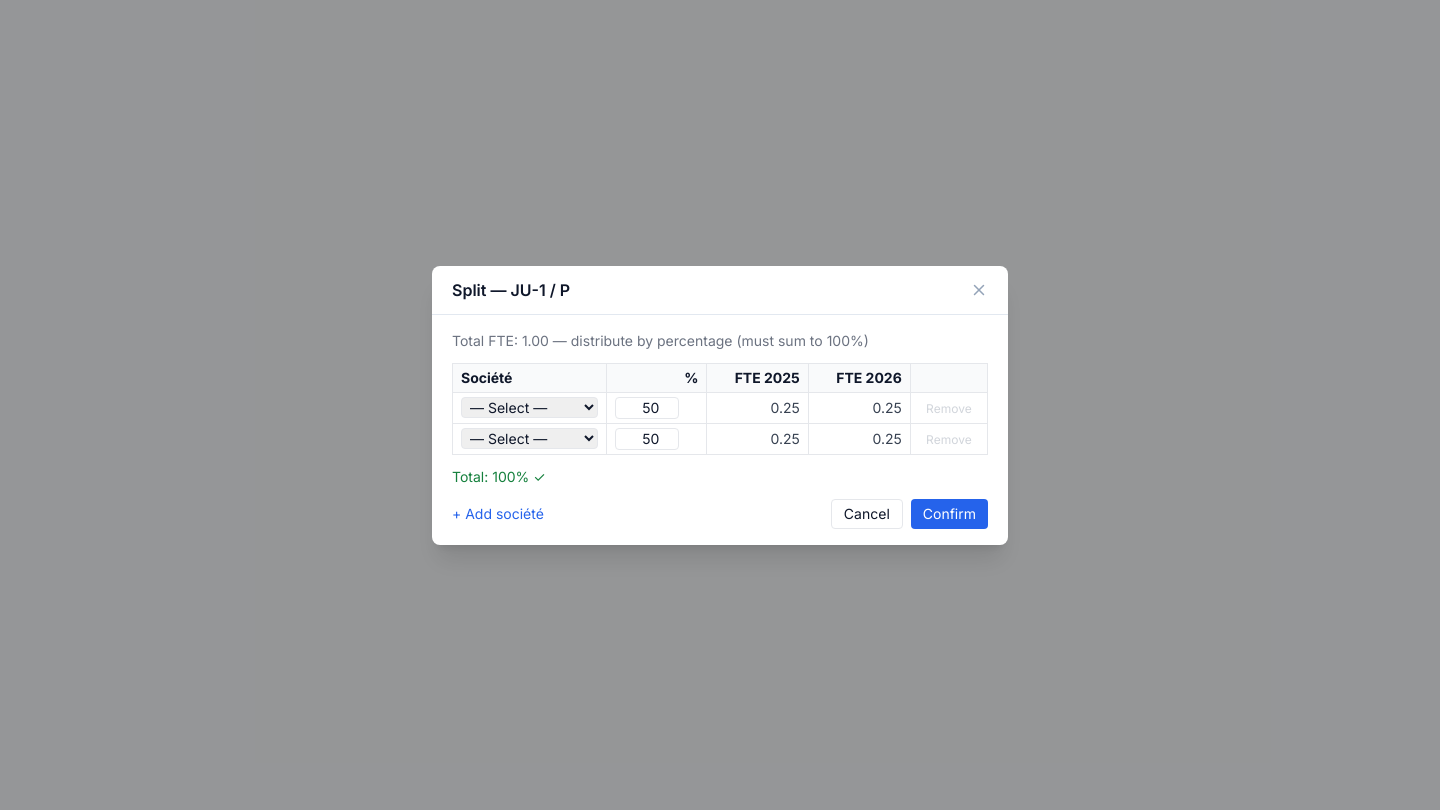
SplitModal — remove slot › shows a disabled Remove per slot at the 2-slot minimum, enabled once a 3rd is added (ALLOC-BR-22)
Expected: the number of buttons named "remove société" is 2, [926,400,972,416]; [926,432,972,448]
Expected: the button with aria-label "remove société" is disabled, [926,400,972,416]
Add a third slot → all three Remove buttons become enabled.
Click the button "+ Add société". click: (498, 514)
box: [452,504,544,524]
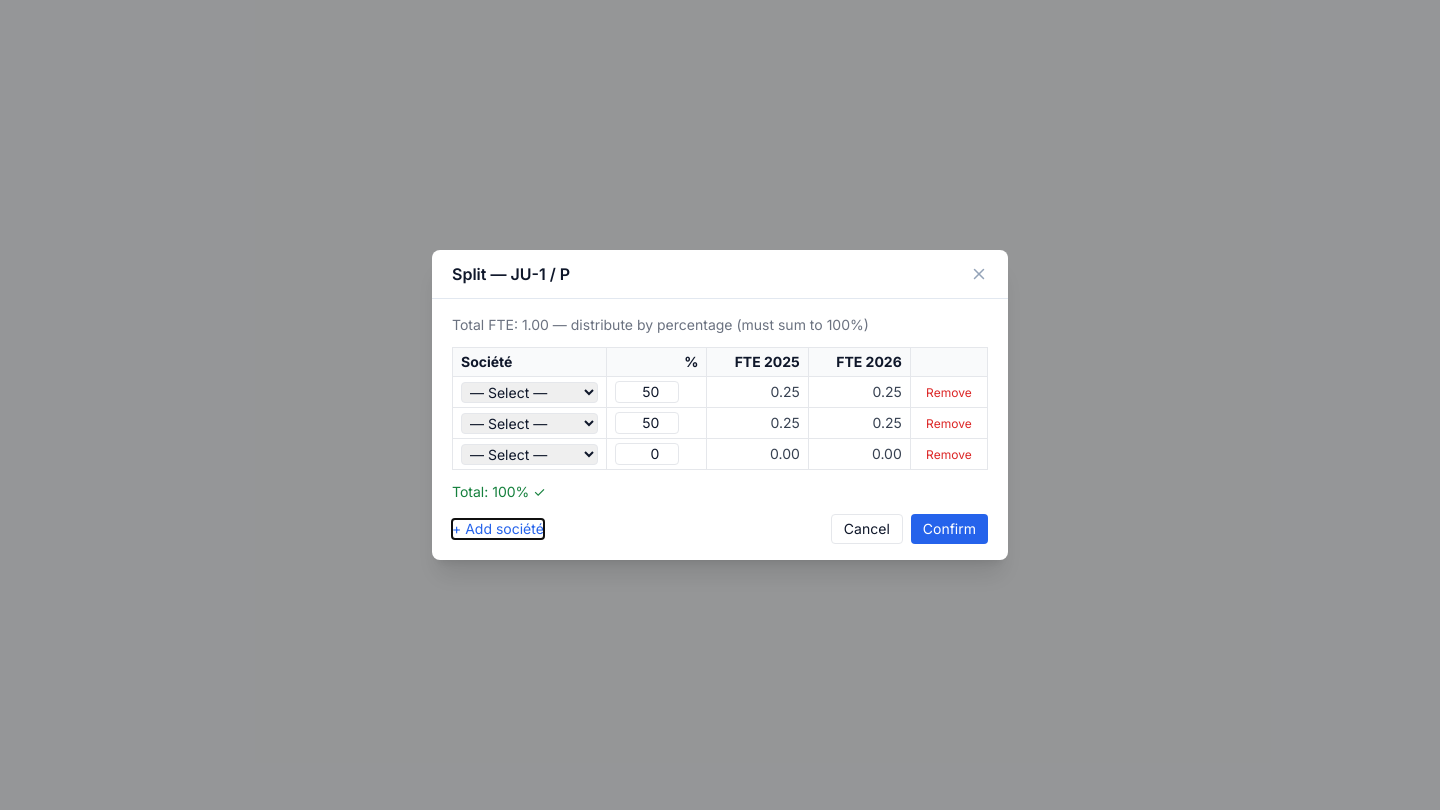
Now the number of buttons named "remove société" is 3
Now the button with aria-label "remove société" is enabled
Remove one → back to 2 slots, Remove disabled again.
Click the button with aria-label "remove société". click: (949, 393)
box: [926,385,972,401]
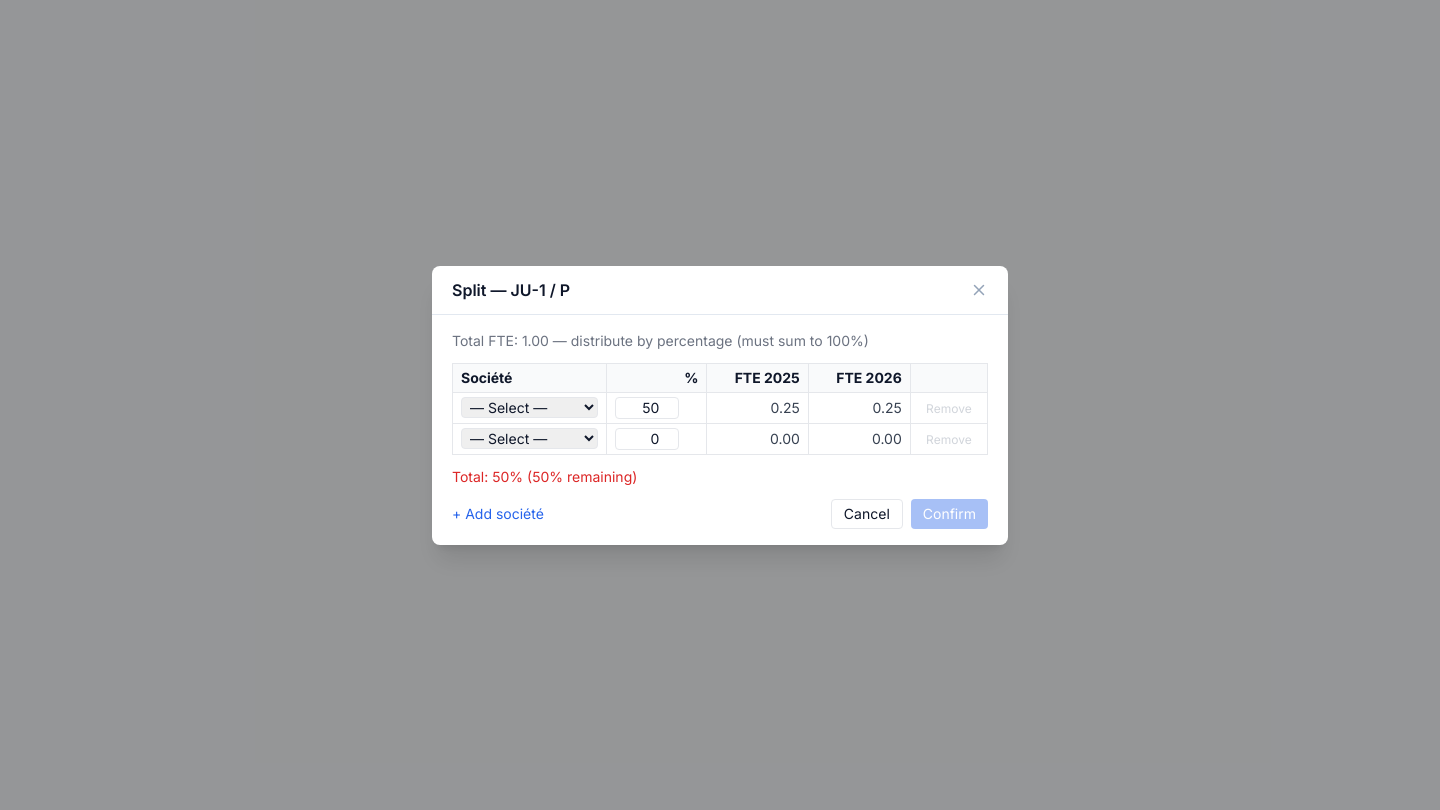
Now the number of buttons named "remove société" is 2, box [926,400,972,416]; [926,432,972,448]
Now the button with aria-label "remove société" is disabled, box [926,400,972,416]
